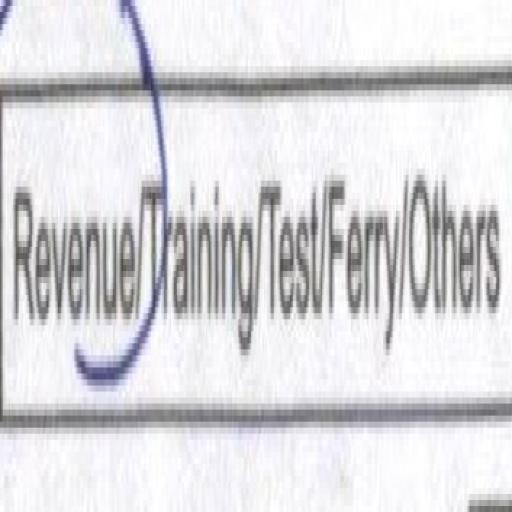check: (0, 0, 142, 450)
